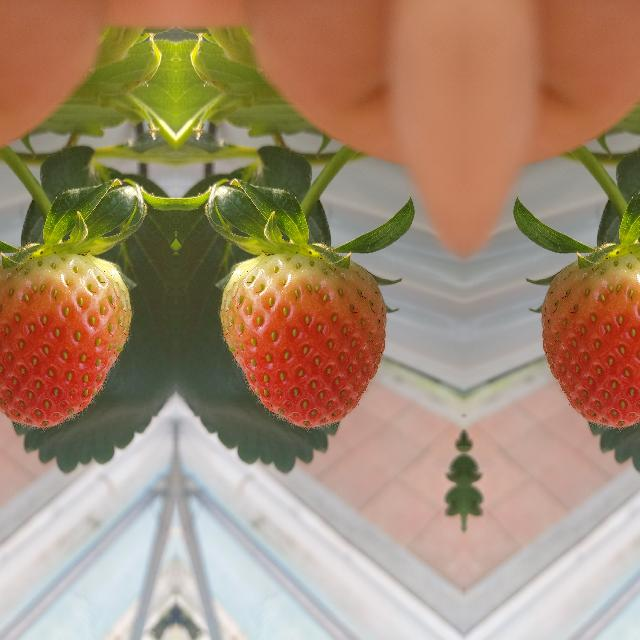Health_100: (219, 254, 385, 426), (0, 253, 131, 426), (541, 253, 640, 426)
